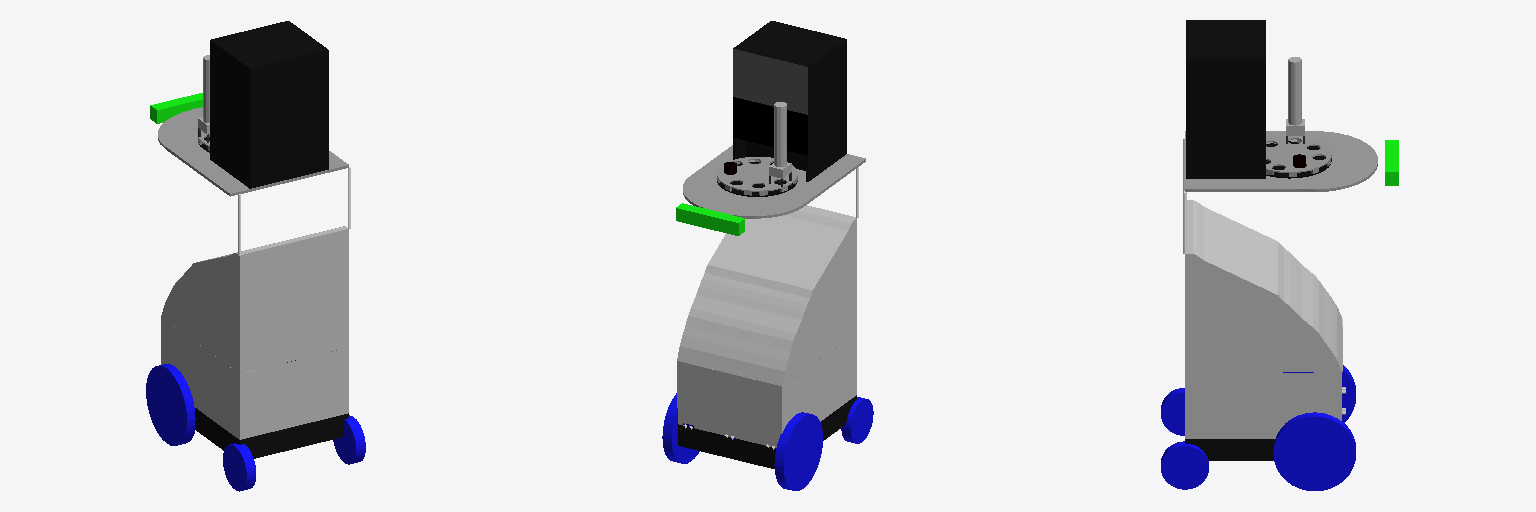
robot.urdf — mesh:
<?xml version="1.0"?>

<robot name="mesh" xmlns:xacro="http://ros.org/wiki/xacro">

  <link name="base_link">
    <visual>
    <origin xyz="0 0 -0.05" rpy="0 0 0" />
      <geometry>
        <box size="0.46 .02 0.01" />
      </geometry>
    </visual>
  </link>

  <link name="platform_link">
    <visual>
    <origin xyz="-0.23 0.285 0" rpy="0 0 0" />
      <geometry>
        <box size="0.46 0.57 0.09" />
      </geometry>
      <material name="black">
        <color rgba="0.1 0.1 0.1 1" />
      </material>
    </visual>
  </link>

  <link name="powered_left_wheel_link">
     <visual>
     <origin xyz="0 0 0" rpy="1.57075 0 1.57075" />
      <geometry>
        <cylinder radius="0.15" length="0.04" />
      </geometry>
      <material name="blue">
        <color rgba="0.1 0.1 1.0 1" />
      </material>
    </visual> 
  </link>

  <link name="powered_right_wheel_link">
     <visual>
     <origin xyz="0 0 0" rpy="1.57075 0 1.57075" />
      <geometry>
        <cylinder radius="0.15" length="0.04" />
      </geometry>
      <material name="blue">
        <color rgba="0.1 0.1 1.0 1" />
      </material>
    </visual> 
  </link>

  <link name="caster_left_wheel_link">
     <visual>
     <origin xyz="0 0 0" rpy="1.57075 0 1.57075" />
      <geometry>
        <cylinder radius="0.0875" length="0.04" />
      </geometry>
      <material name="blue">
        <color rgba="0.1 0.1 1.0 1" />
      </material>
    </visual> 
  </link>

  <link name="caster_right_wheel_link">
     <visual>
     <origin xyz="0 0 0" rpy="1.57075 0 1.57075" />
      <geometry>
        <cylinder radius="0.0875" length="0.04" />
      </geometry>
      <material name="blue">
        <color rgba="0.1 0.1 1.0 1" />
      </material>
    </visual> 
  </link>

  <link name="body_link">
     <visual>
     <origin xyz="0 0 0" rpy="0 0 1.57075" />
      <geometry>
        <mesh filename="package://cobot_description/meshes/dae/body.dae" />
      </geometry>
    </visual> 
  </link>

  <link name="frame_left_top_link">
     <visual>
     <origin xyz="0 0 0.1225" rpy="0 0 0" />
      <geometry>
        <cylinder radius="0.006" length="0.245" />
      </geometry>
      <material name="white">
        <color rgba="1 1 1 1" />
      </material>
    </visual> 
  </link>

  <link name="frame_right_top_link">
     <visual>
     <origin xyz="0 0 0.1225" rpy="0 0 0" />
      <geometry>
        <cylinder radius="0.006" length="0.245" />
      </geometry>
      <material name="white">
        <color rgba="1 1 1 1" />
      </material>
    </visual> 
  </link>

  <link name="top_link">
     <visual>
     <origin xyz="0 0 0" rpy="0 0 1.57075" />
      <geometry>
        <mesh filename="package://cobot_description/meshes/dae/top.dae" />
      </geometry>
    </visual> 
  </link>

  <link name="kinect_base_link">
     <visual>
     <origin xyz="0 0 0" rpy="0 0 1.57075" />
      <geometry>
        <box size="0.05 0.275 0.055" />
      </geometry>
     <material name="green">
      <color rgba="0.1 1 0.1 1" />
    </material>
    </visual> 
  </link>  

  <link name="kinect_ir_sensor_link">
     <visual>
     <origin xyz="0 0 0" rpy="1.57075 0 0" />
      <geometry>
        <cylinder radius="0.009" length="0.01" />
      </geometry>
     <material name="red">
      <color rgba="1.0 0.1 0.1 1" />
    </material>
    </visual> 
  </link> 

  <link name="kinect_rgb_sensor_link">
     <visual>
     <origin xyz="0 0 0" rpy="1.57075 0 0" />
      <geometry>
        <cylinder radius="0.009" length="0.01" />
      </geometry>
     <material name="blue">
      <color rgba="0.1 0.1 1.0 1" />
    </material>
    </visual> 
  </link>  

  <link name="ultrasoon_front_left_link">
     <visual>
     <origin xyz="0 0 0" rpy="0 0 1.57075" />
      <geometry>
        <mesh filename="package://cobot_description/meshes/dae/ultrasoon.dae" />
      </geometry>
    </visual> 
  </link>

  <link name="ultrasoon_front_middle_link">
     <visual>
     <origin xyz="0 0 0" rpy="0 0 1.57075" />
      <geometry>
        <mesh filename="package://cobot_description/meshes/dae/ultrasoon.dae" />
      </geometry>
    </visual> 
  </link>

  <link name="ultrasoon_front_right_link">
     <visual>
     <origin xyz="0 0 0" rpy="0 0 1.57075" />
      <geometry>
        <mesh filename="package://cobot_description/meshes/dae/ultrasoon.dae" />
      </geometry>
    </visual> 
  </link>


  <joint name="platform_base_joint" type="fixed">
    <parent link="base_link" />  
    <child link="platform_link" />
    <origin xyz="0.23 -0.47 0" rpy="0 0 0" />
  </joint>

  <joint name="powered_left_wheel_base_joint" type="fixed">
    <parent link="base_link" />  
    <child link="powered_left_wheel_link" />
    <origin xyz="-0.245 0 0" rpy="0 0 0" />
  </joint>

  <joint name="powered_right_wheel_base_joint" type="fixed">
    <parent link="base_link" />  
    <child link="powered_right_wheel_link" />
    <origin xyz="0.245 0 0" rpy="0 0 0" />
  </joint>

  <joint name="caster_left_wheel_base_joint" type="fixed">
    <parent link="base_link" />  
    <child link="caster_left_wheel_link" />
    <origin xyz="-0.23 -0.47 -0.0625" rpy="0 0 0" />
  </joint>

  <joint name="caster_right_wheel_base_joint" type="fixed">
    <parent link="base_link" />  
    <child link="caster_right_wheel_link" />
    <origin xyz="0.23 -0.47 -0.0625" rpy="0 0 0" />
  </joint>

  <joint name="body_base_joint" type="fixed">
    <parent link="platform_link" />  
    <child link="body_link" />
    <origin xyz="0 0 0.045" rpy="0 0 0" />
  </joint>

  <joint name="frame_left_top_body_joint" type="fixed">
    <parent link="body_link" />  
    <child link="frame_left_top_link" />
    <origin xyz="-0.46 0 0.74" rpy="0 0 0" />
  </joint>

  <joint name="frame_right_top_body_joint" type="fixed">
    <parent link="body_link" />  
    <child link="frame_right_top_link" />
    <origin xyz="0 0 0.74" rpy="0 0 0" />
  </joint>

  <joint name="top_frame_right_top_joint" type="fixed">
    <parent link="frame_right_top_link" />  
    <child link="top_link" />
    <origin xyz="0 0 0.245" rpy="0 0 0" />
  </joint>

  <joint name="kinect_base_top_joint" type="fixed">
    <parent link="top_link" />  
    <child link="kinect_base_link" />
    <origin xyz="-0.25 0.75 0" rpy="0 0 0" />
  </joint>

  <joint name="kinect_ir_sensor_kinect_base_joint" type="fixed">
    <parent link="kinect_base_link" />  
    <child link="kinect_ir_sensor_link" />
    <origin xyz="-0.013 0 0" rpy="0 0 0" />
  </joint>

  <joint name="kinect_rgb_sensor_kinect_base_joint" type="fixed">
    <parent link="kinect_base_link" />  
    <child link="kinect_rgb_sensor_link" />
    <origin xyz="0.013 0 0" rpy="0 0 0" />
  </joint>

  <joint name="ultrasoon_front_left_body_joint" type="fixed">
    <parent link="body_link" />  
    <child link="ultrasoon_front_left_link" />
    <origin xyz="-0.05 0.57 0" rpy="0 0 0" />
  </joint>

  <joint name="ultrasoon_front_middle_body_joint" type="fixed">
    <parent link="body_link" />  
    <child link="ultrasoon_front_middle_link" />
    <origin xyz="-0.23 0.57 0" rpy="0 0 0" />
  </joint>

  <joint name="ultrasoon_front_right_body_joint" type="fixed">
    <parent link="body_link" />  
    <child link="ultrasoon_front_right_link" />
    <origin xyz="-0.41 0.57 0" rpy="0 0 0" />
  </joint>


</robot>

--- What the picture shows (computed from the rendered views, not written in the file) ---
The picture shows the robot from 3 angles, left to right: view 1: azimuth 30°, elevation 25°; view 2: azimuth 150°, elevation 25°; view 3: azimuth 270°, elevation 25°; orthographic projection.
Robot: mesh — 16 links, 15 joints (15 fixed); root link base_link; default pose: every joint at zero.
Visible links, largest first — view 1: body_link, top_link, powered_left_wheel_link, platform_link, caster_left_wheel_link, caster_right_wheel_link, kinect_base_link; view 2: body_link, top_link, powered_left_wheel_link, platform_link, kinect_base_link, powered_right_wheel_link, caster_left_wheel_link; view 3: body_link, top_link, powered_right_wheel_link, caster_right_wheel_link, platform_link, caster_left_wheel_link, kinect_base_link, powered_left_wheel_link.
Boxes of the visible links, <box> form: body_link: <box>161,226,348,439</box>; top_link: <box>158,21,348,196</box>; powered_left_wheel_link: <box>146,364,195,445</box>; platform_link: <box>195,408,348,458</box>; caster_left_wheel_link: <box>223,443,255,491</box>; caster_right_wheel_link: <box>333,415,365,464</box>; kinect_base_link: <box>150,93,202,123</box>; body_link: <box>677,205,856,447</box>; top_link: <box>683,21,865,218</box>; powered_left_wheel_link: <box>774,412,822,490</box>; platform_link: <box>678,395,856,468</box>; kinect_base_link: <box>676,203,744,235</box>; powered_right_wheel_link: <box>662,393,699,463</box>; caster_left_wheel_link: <box>841,397,873,443</box>; body_link: <box>1185,200,1342,438</box>; top_link: <box>1185,20,1377,191</box>; powered_right_wheel_link: <box>1273,412,1355,490</box>; caster_right_wheel_link: <box>1161,441,1208,489</box>; platform_link: <box>1185,439,1274,460</box>; caster_left_wheel_link: <box>1161,388,1184,435</box>; kinect_base_link: <box>1385,140,1398,185</box>; powered_left_wheel_link: <box>1283,365,1355,422</box>.
Size in the robot's own frame: 0.5345 by 0.8625 by 1.67 metres.
Meshes: 3 distinct files referenced, 5 mesh visuals loaded (3 Collada DAE).